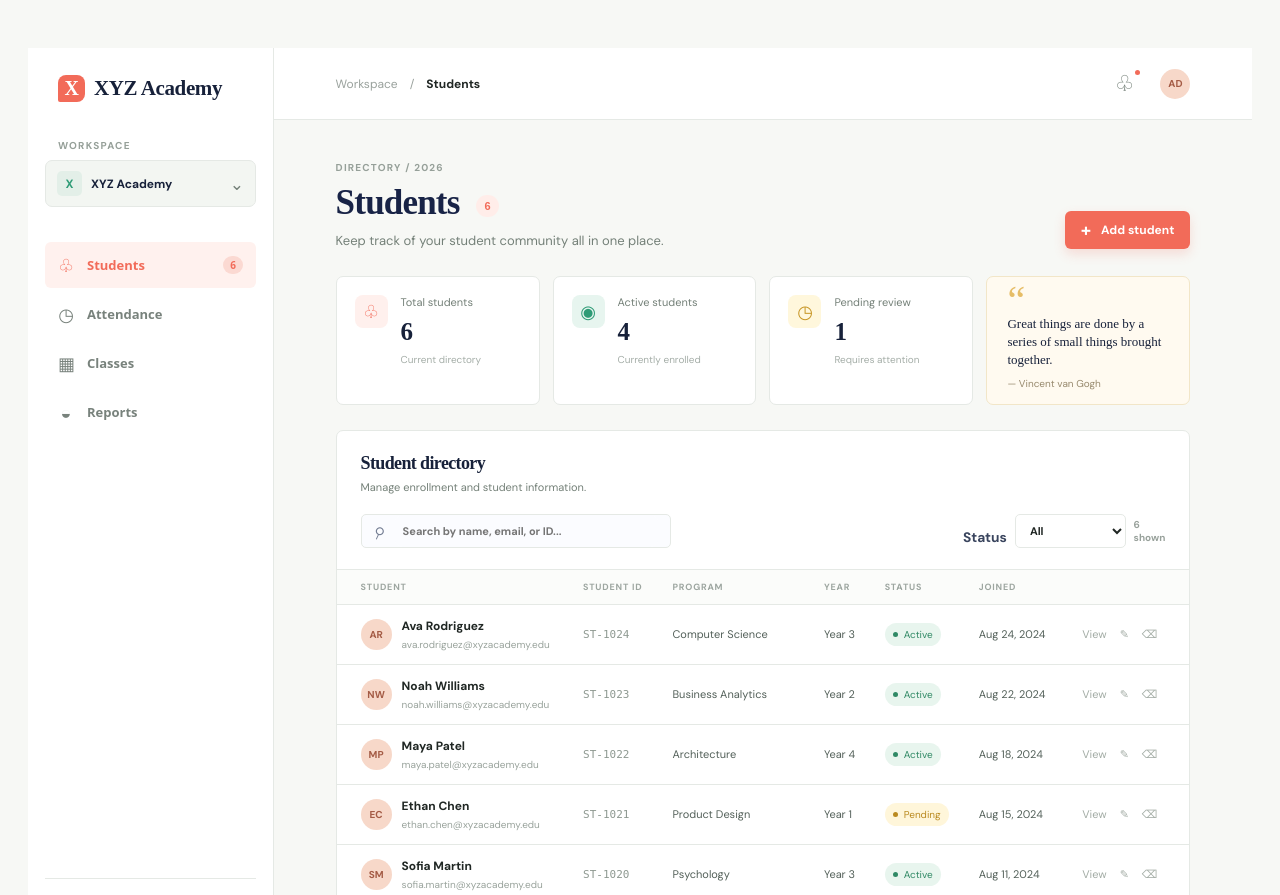
Test: adds a student through the form
The image size is (1280, 895).
Click the button "+ Add student". click: x=1128, y=230
box: [1065,211,1190,249]
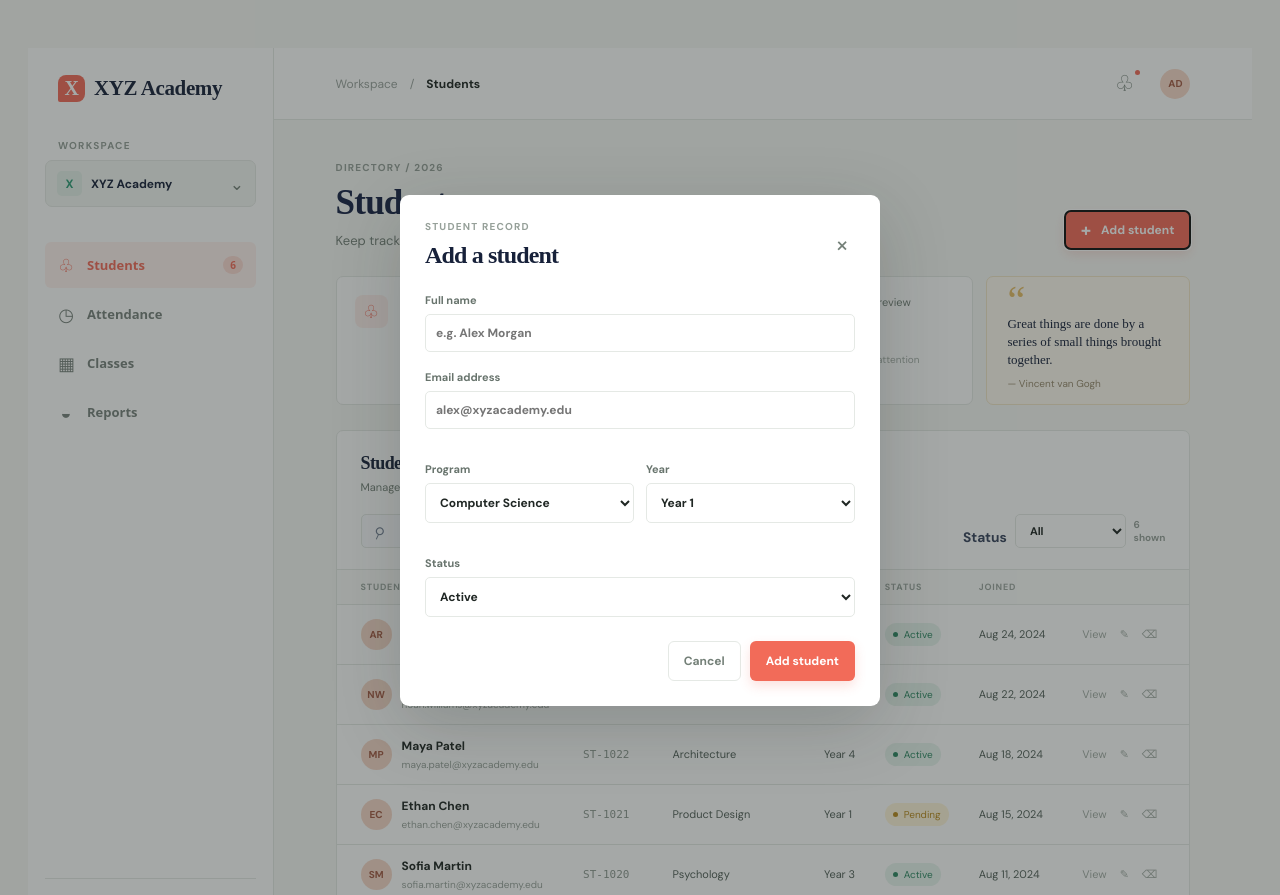
Type "Sam Lee" into the field labelled "Full name". click: x=640, y=332
box: [425,314,855,352]
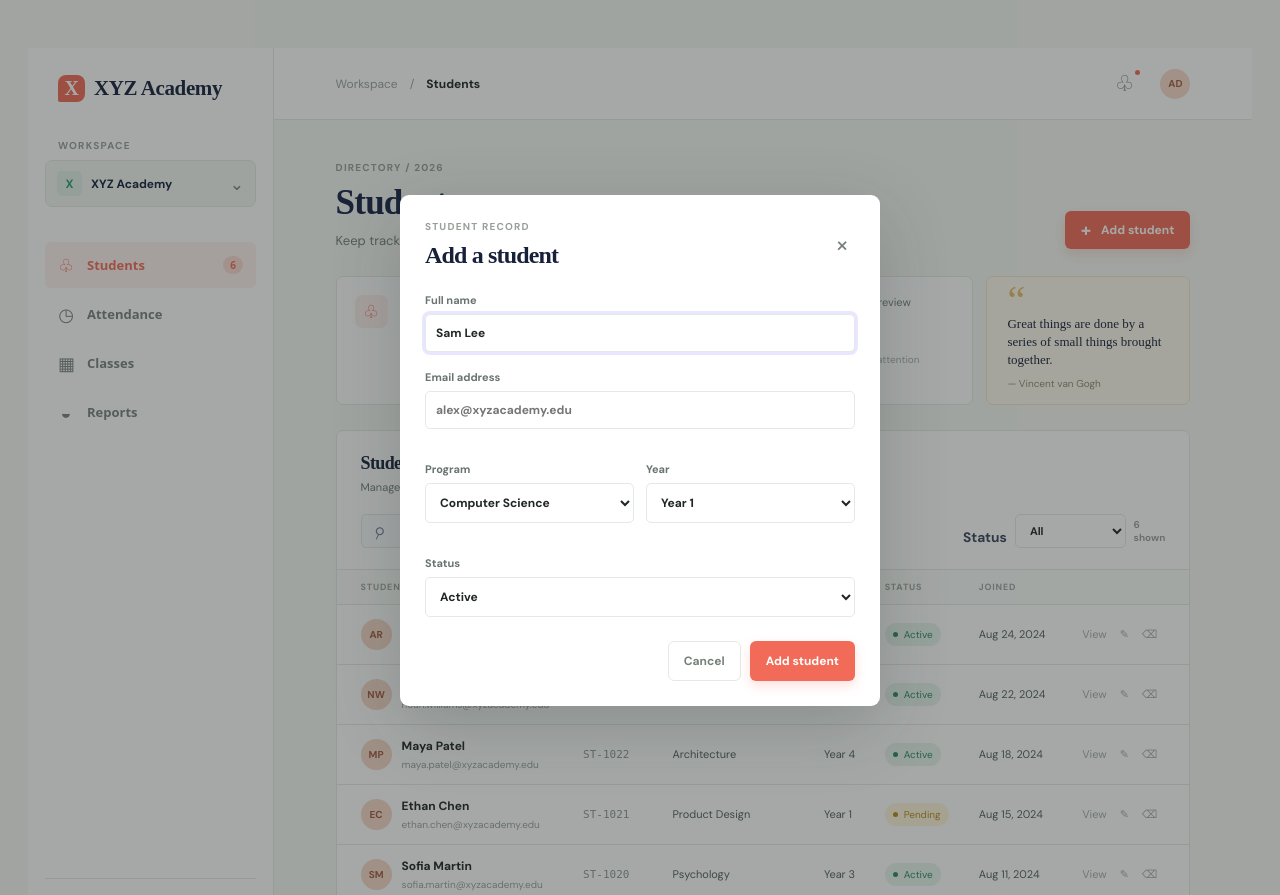
Type "sam@xyzacademy.edu" into the field labelled "Email address". click: x=640, y=410
box: [425,390,855,428]
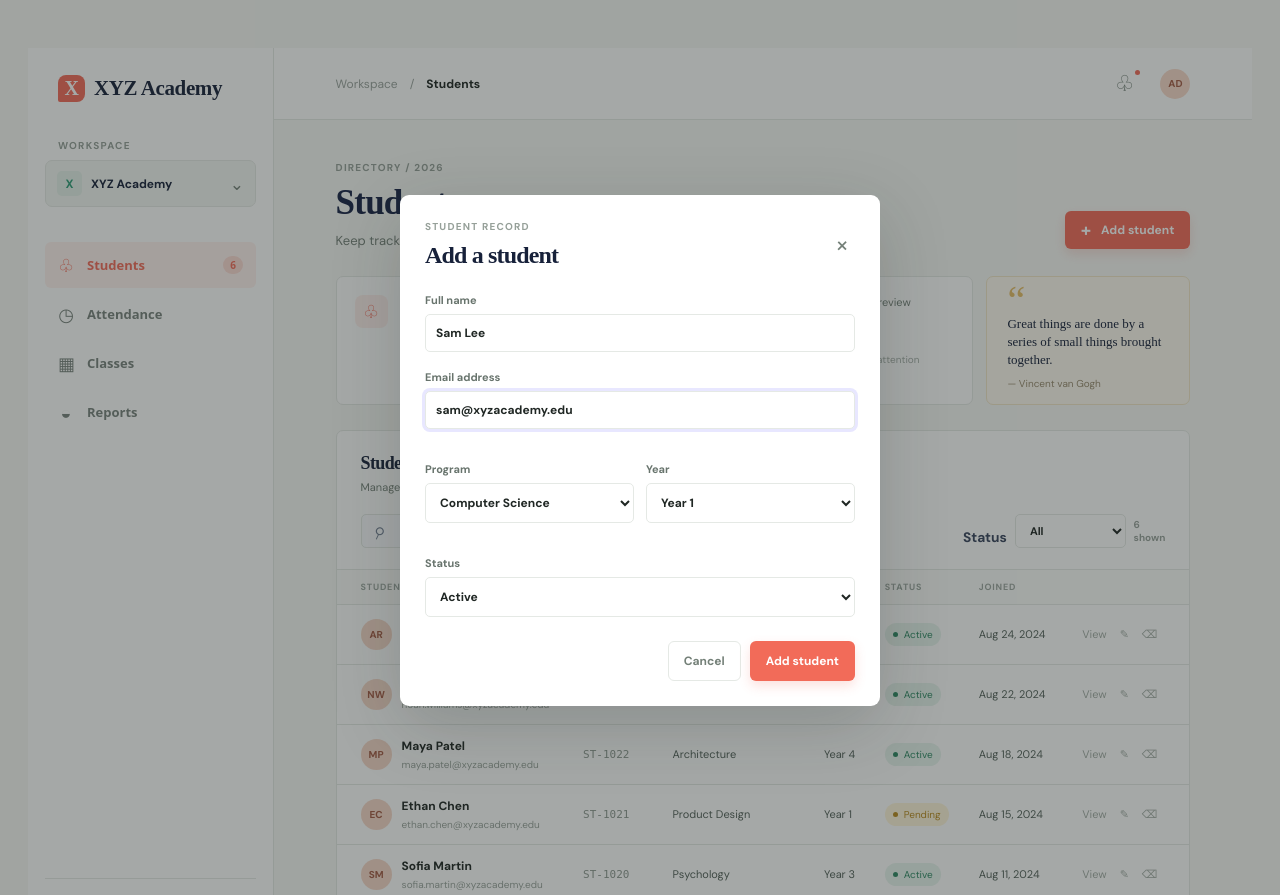
Click the button "Add student". click: x=802, y=660
box: [750,640,855,680]
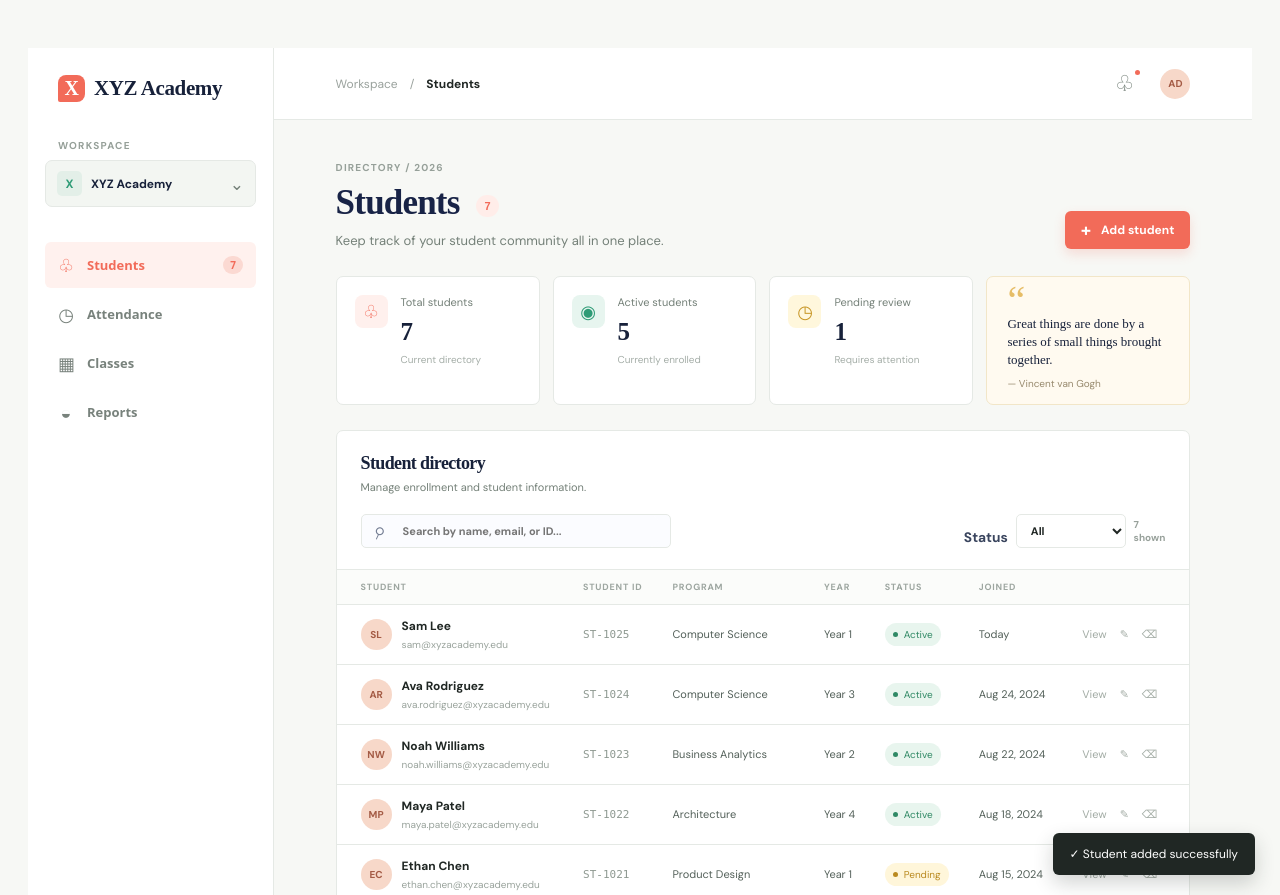
expect the text "Sam Lee" is shown: met, box [402,618,451,634]
